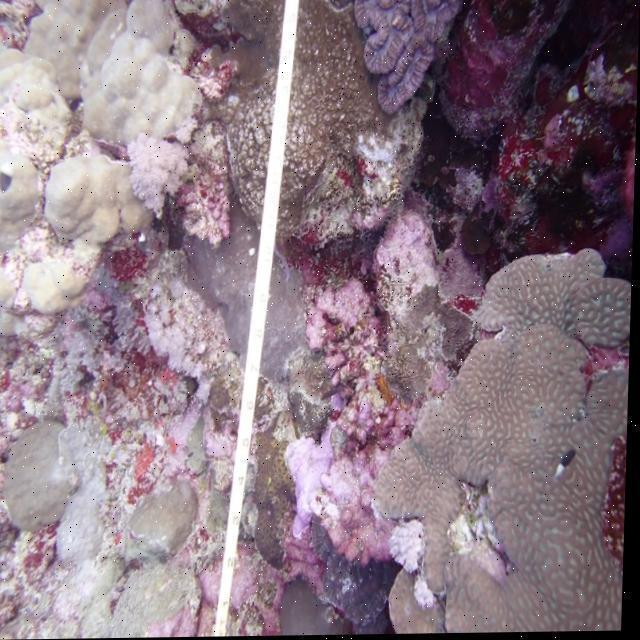Bleached Coral: (276, 413, 369, 540), (372, 507, 449, 620), (126, 130, 203, 221)
Healthy Coral: (0, 0, 217, 344)
